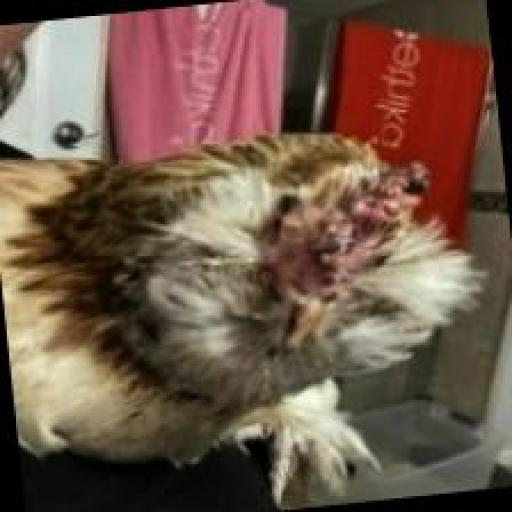disease: (210, 115, 445, 401)
